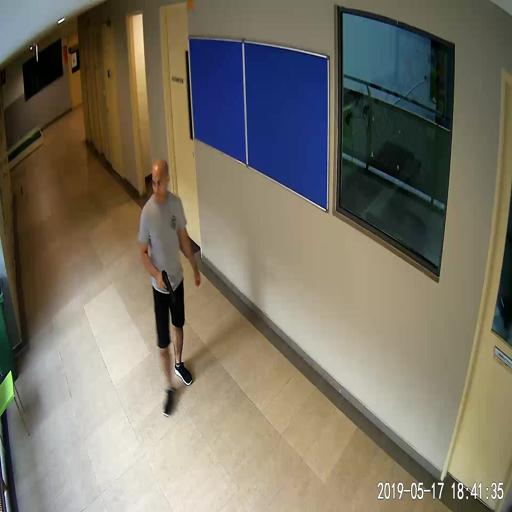pistol: (158, 269, 175, 302)
